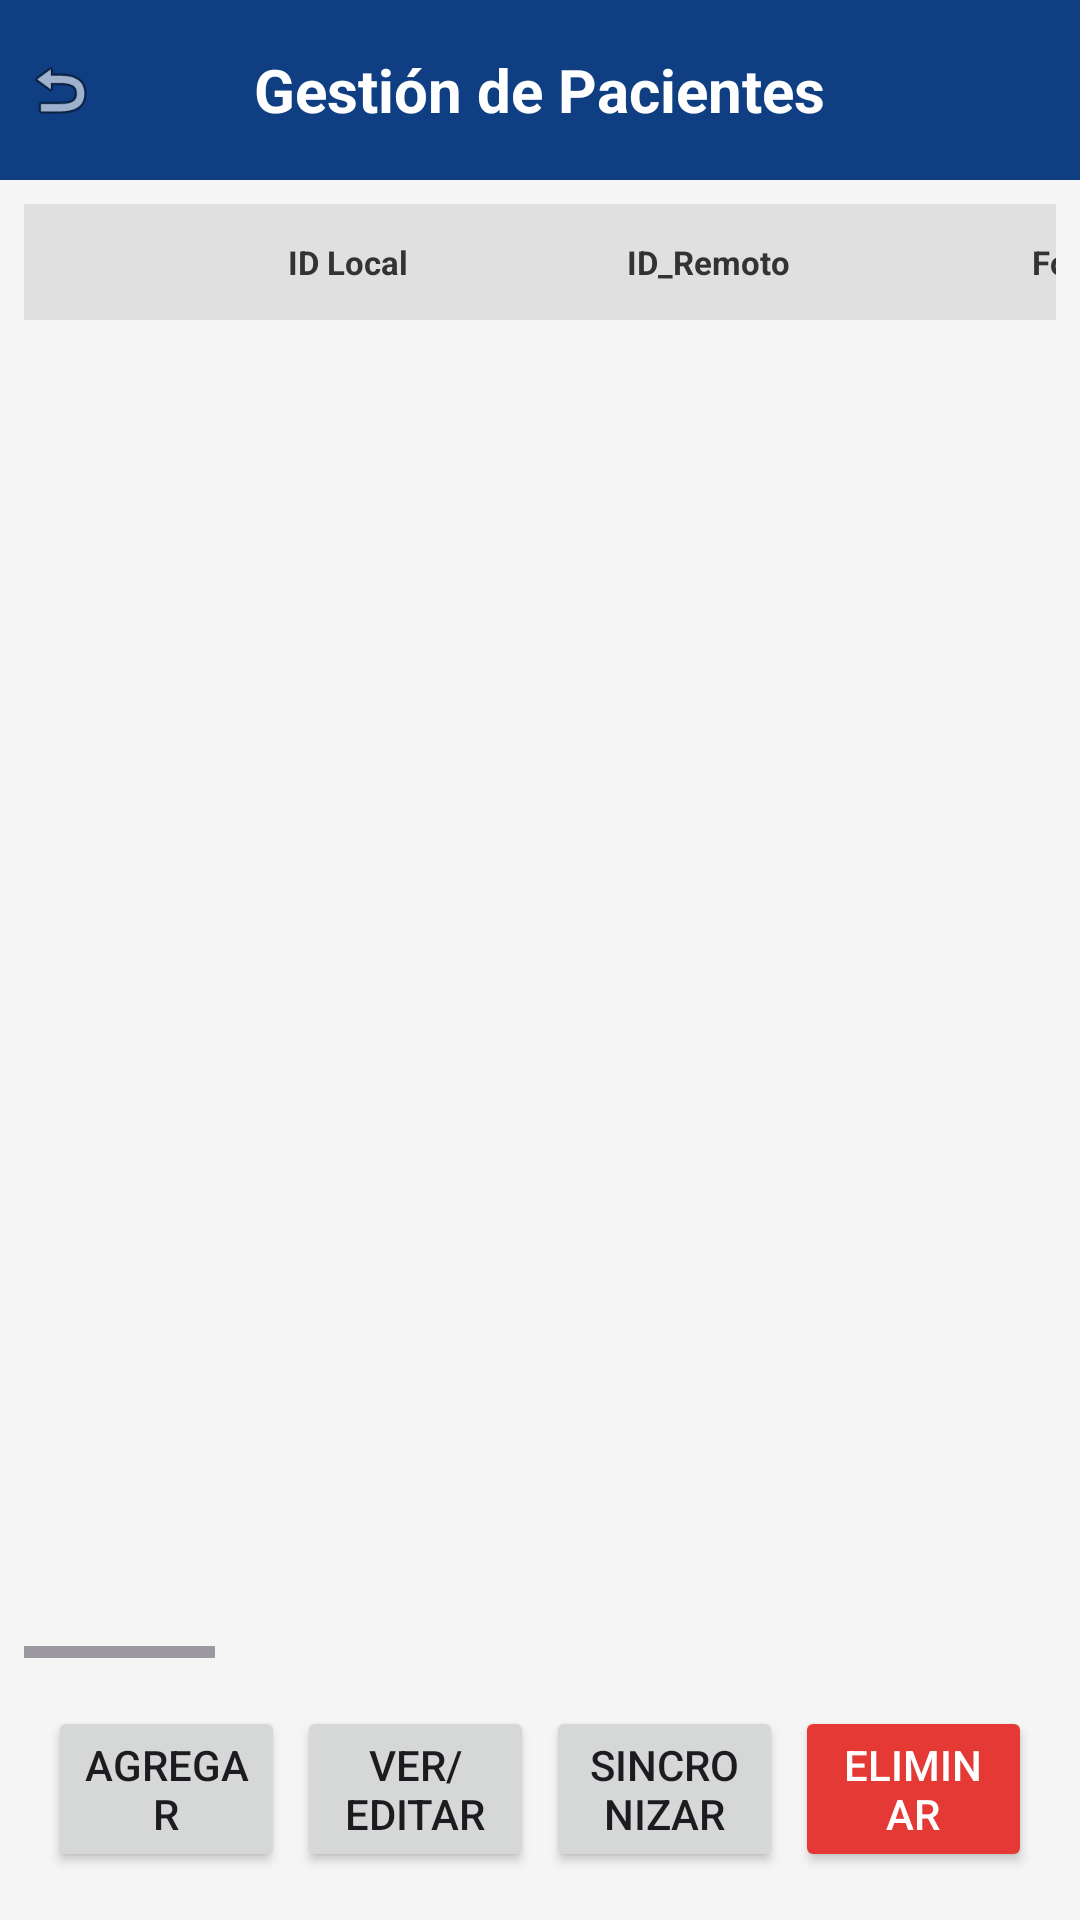

Where to tap for icons on this 1080 × 1920 app screen, as (x=x, y=y):
revert: (x=61, y=90)
